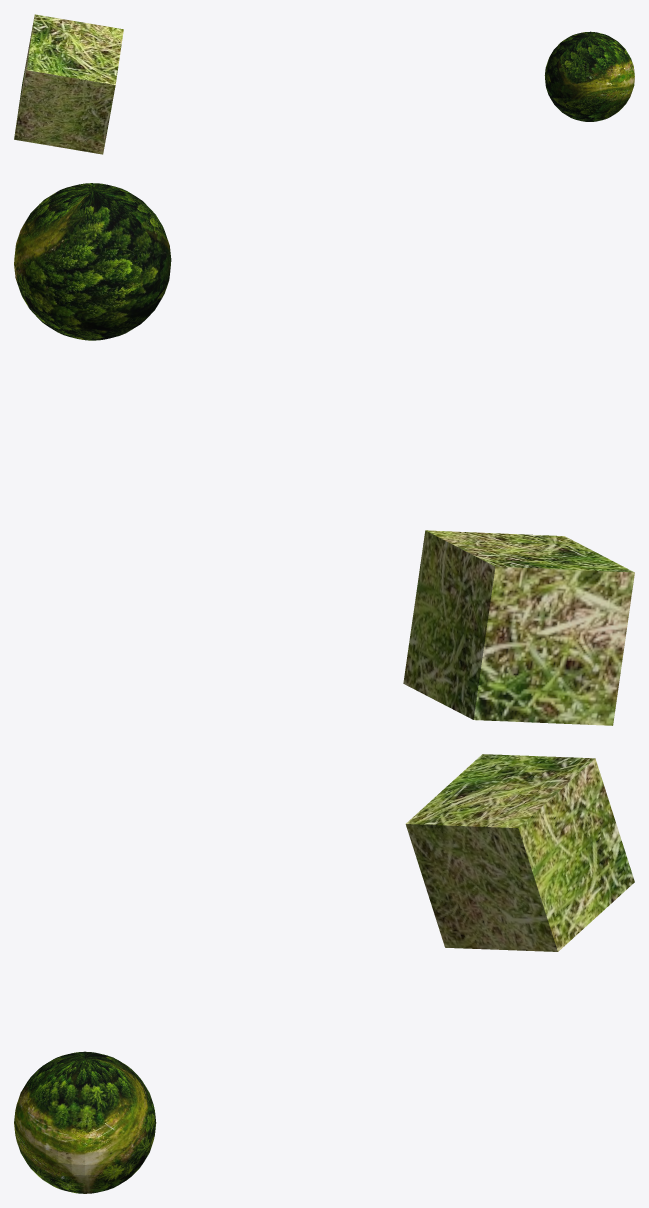
The model's file is spherecube.glb.
3 renders of one model, top to bottom at view 1: azimuth 30°, elevation 25°; view 2: azimuth 150°, elevation 25°; view 3: azimuth 270°, elevation 25°, orthographic. The views are drawn at different scales.
Parts seen in each view (by area): view 1: Cube, Сфера; view 2: Cube, Сфера; view 3: Cube, Сфера.
Boxes of the visible parts, box(x1,y1,x2,y2) form: Cube: box(14, 14, 123, 154); Сфера: box(544, 31, 634, 121); Cube: box(403, 530, 634, 725); Сфера: box(14, 183, 171, 340); Cube: box(405, 754, 634, 951); Сфера: box(14, 1051, 156, 1193).
Size of the model in its own units: 12.17 by 2.72 by 8.73.
2 materials, 2 textured.
